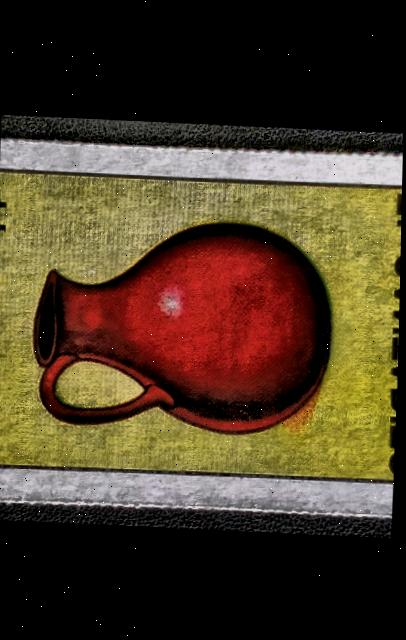El Cantarito: (0, 148, 403, 504)
